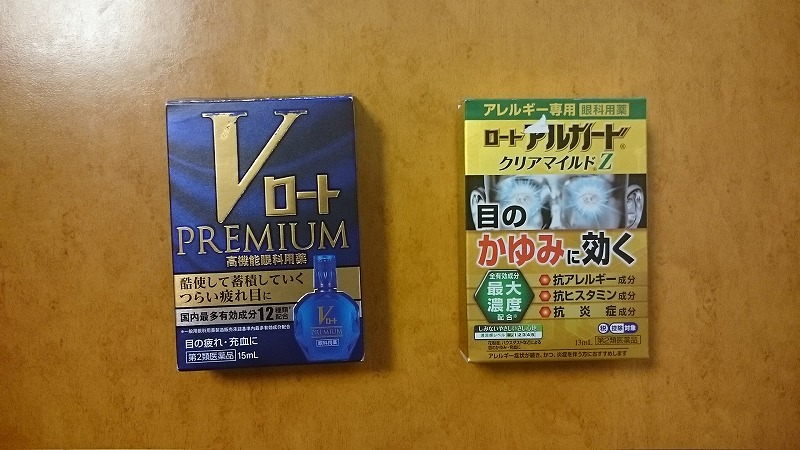C: (453, 93, 652, 369)
D: (160, 97, 371, 367)
